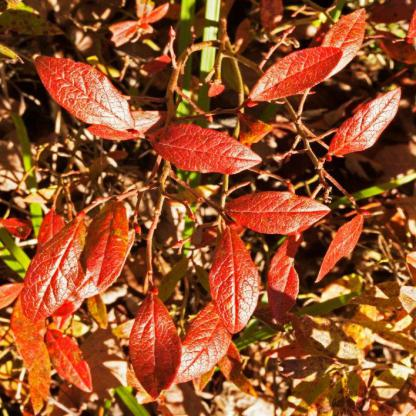blueberry leaf: (16, 212, 99, 329), (35, 52, 135, 134), (125, 290, 189, 405), (73, 199, 137, 302), (147, 121, 264, 177), (207, 223, 263, 340), (323, 83, 404, 161), (243, 47, 347, 106), (223, 184, 332, 236), (42, 326, 99, 395)
